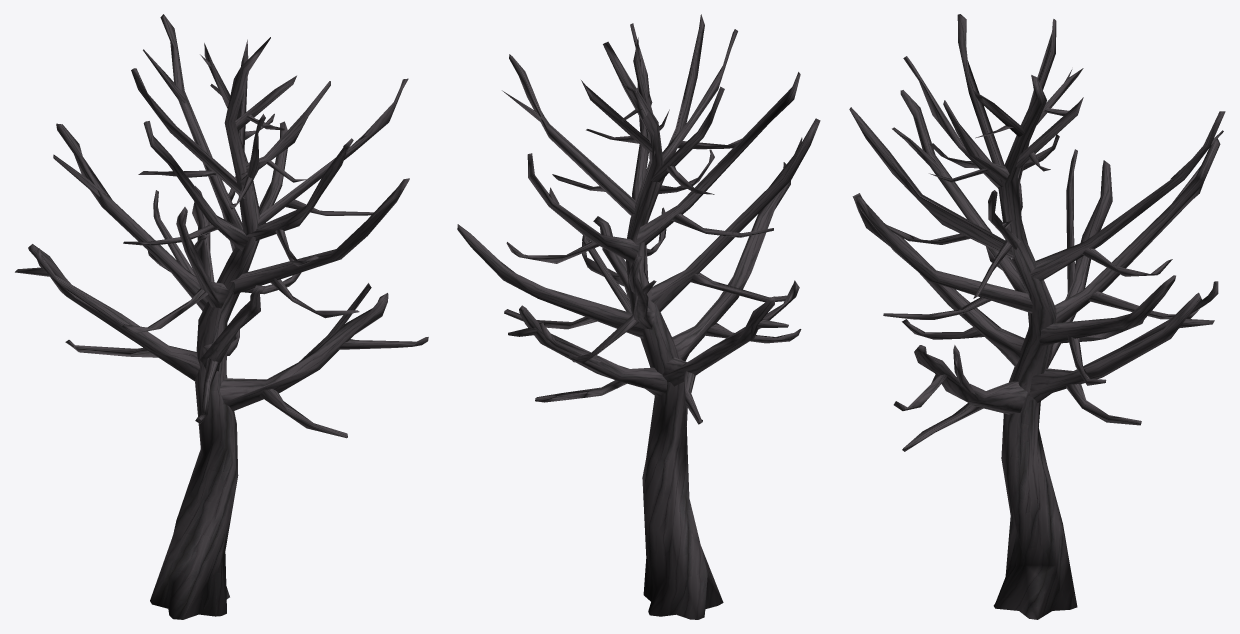
File: dead-tree-1-DieyjOK_.glb
3 renders of one model, left to right at view 1: azimuth 30°, elevation 25°; view 2: azimuth 150°, elevation 25°; view 3: azimuth 270°, elevation 25°, orthographic. The views are drawn at different scales.
Visible parts, largest first — view 1: DeadTree_1; view 2: DeadTree_1; view 3: DeadTree_1.
Boxes of the visible parts, x1,y1,x2,y2 form: DeadTree_1: (15, 14, 428, 619); DeadTree_1: (457, 14, 820, 619); DeadTree_1: (849, 14, 1225, 619).
Bounding box in the file's own units: 6.12 × 9.49 × 5.73.
Materials: 1 (1 with a texture image).
